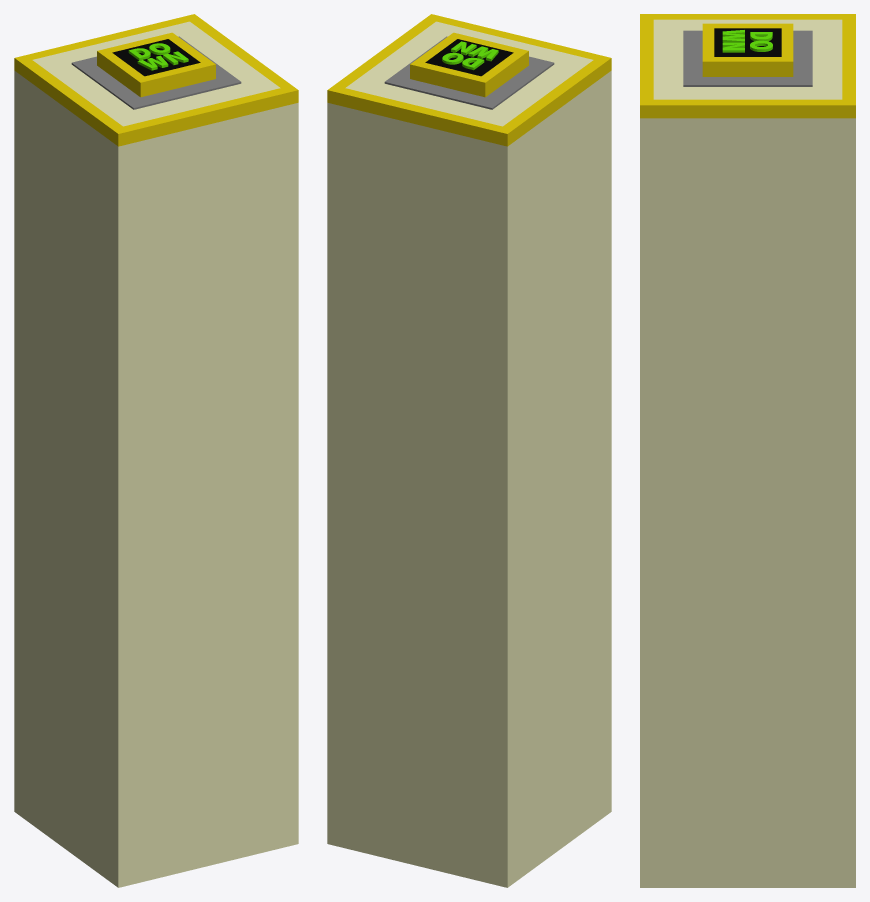
Rendered from yellow_yellow_down.fbx.
3 renders of one model, left to right at view 1: azimuth 30°, elevation 25°; view 2: azimuth 150°, elevation 25°; view 3: azimuth 270°, elevation 25°, orthographic. The views are drawn at different scales.
Visible parts, largest first — view 1: yellow_yellow_down; view 2: yellow_yellow_down; view 3: yellow_yellow_down.
Part boxes in pixels (<box>): yellow_yellow_down: <box>14,14,298,887</box>; yellow_yellow_down: <box>327,14,611,887</box>; yellow_yellow_down: <box>640,14,855,887</box>.
Size of the model in its own units: 1 by 4.1 by 1.
